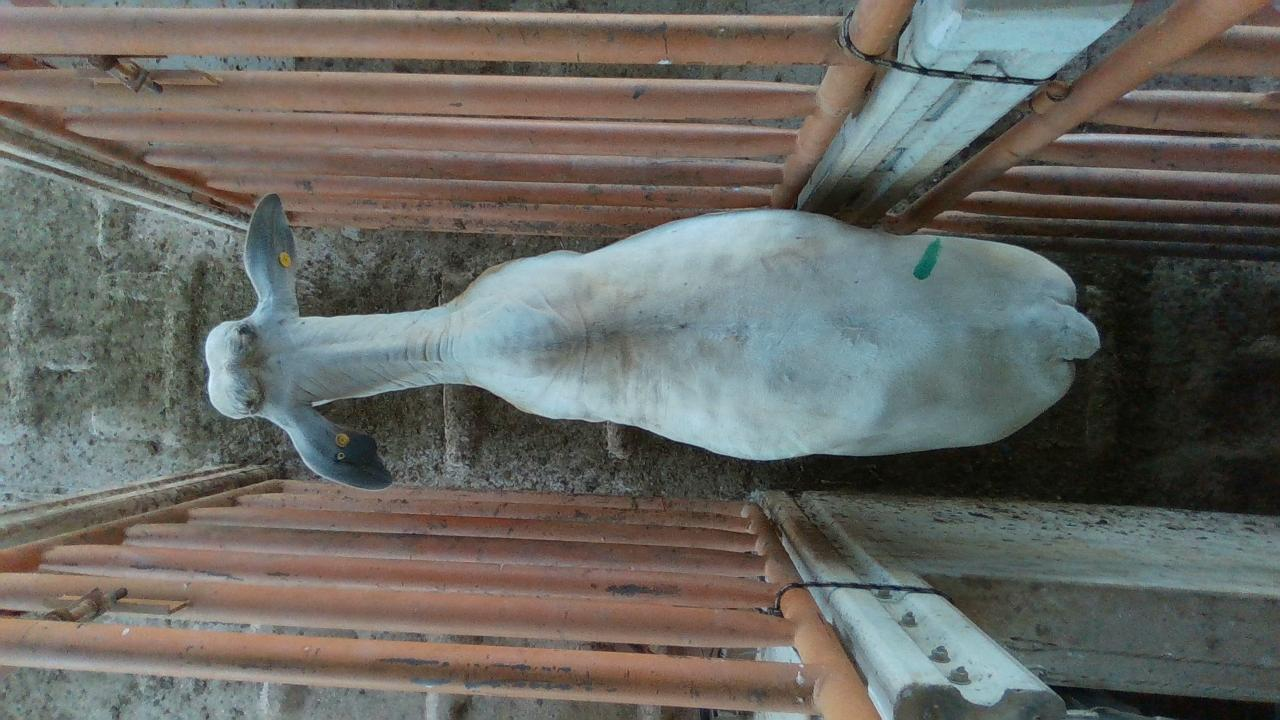cattle: (202, 191, 1101, 490)
